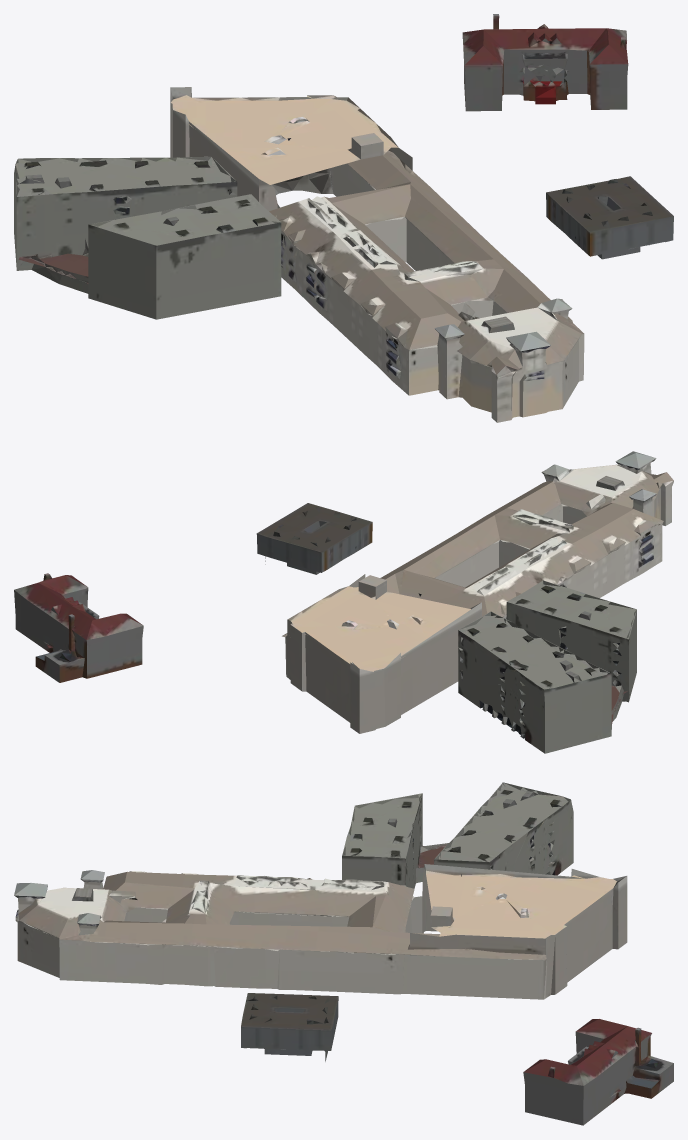
The model's file is t_-1_-4.coat.glb.
3 views of the same model, one above another, from view 1: azimuth 30°, elevation 25°; view 2: azimuth 150°, elevation 25°; view 3: azimuth 270°, elevation 25° (orthographic). The views are drawn at different scales.
Parts seen in each view (by area): view 1: far; view 2: far; view 3: far.
Boxes of the visible parts, x1,y1,x2,y2 form: far: (14, 14, 673, 422); far: (14, 451, 673, 753); far: (14, 782, 673, 1125).
Bounding box in the file's own units: 199 × 26.07 × 198.
1 material, 1 textured.
